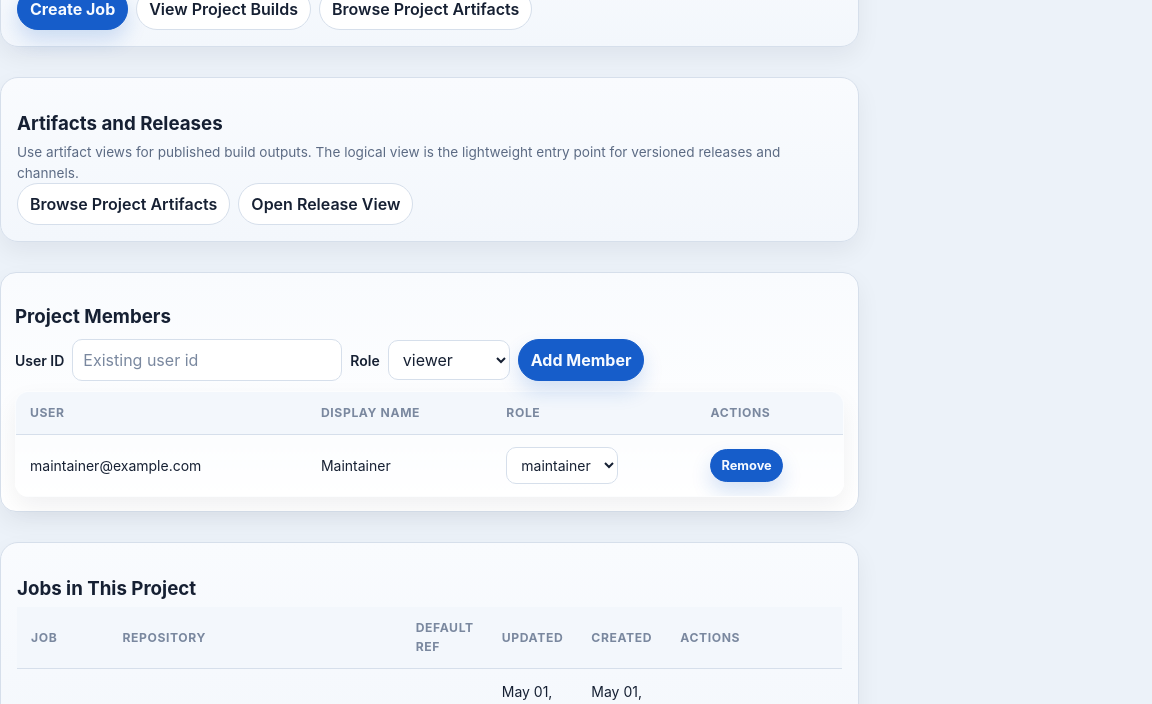
Test: ProjectDetailPage › shows friendly mutation errors for member changes
(page scrolled)
Expected: the text "maintainer@example.com" is shown, [16,435,307,497]
In the field labelled "User ID": (207, 360) [72,339,342,381], type "user-2"
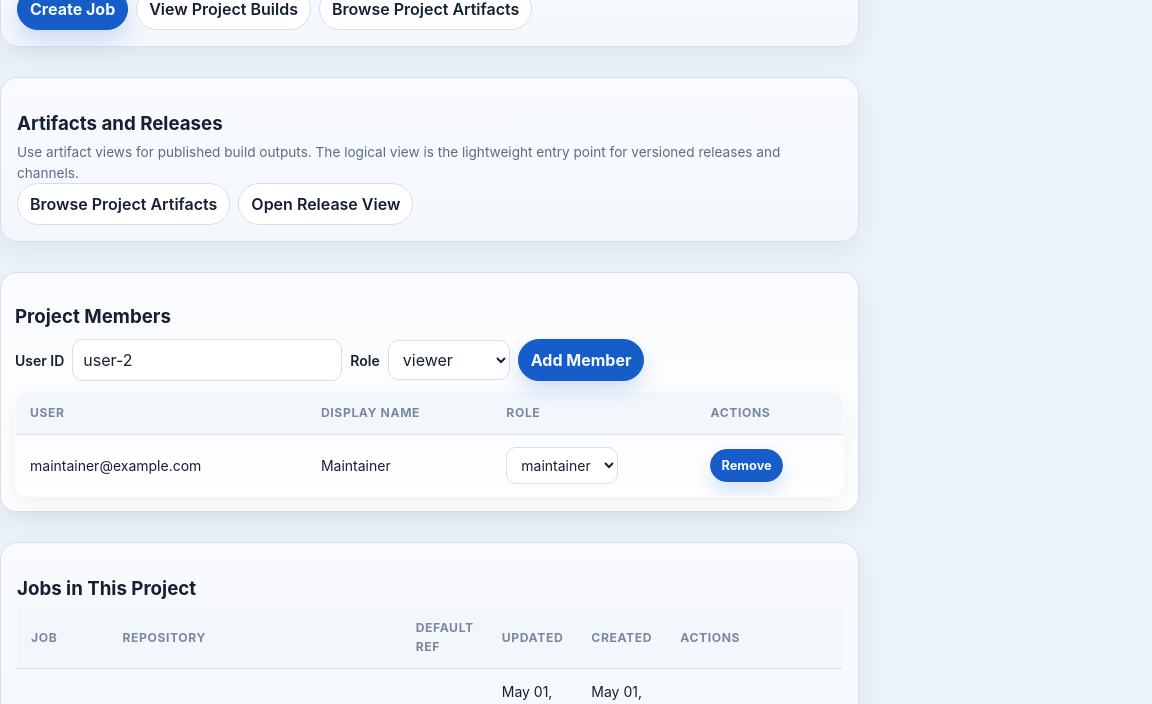
Click the button "Add Member": (581, 360) [518,339,644,381]
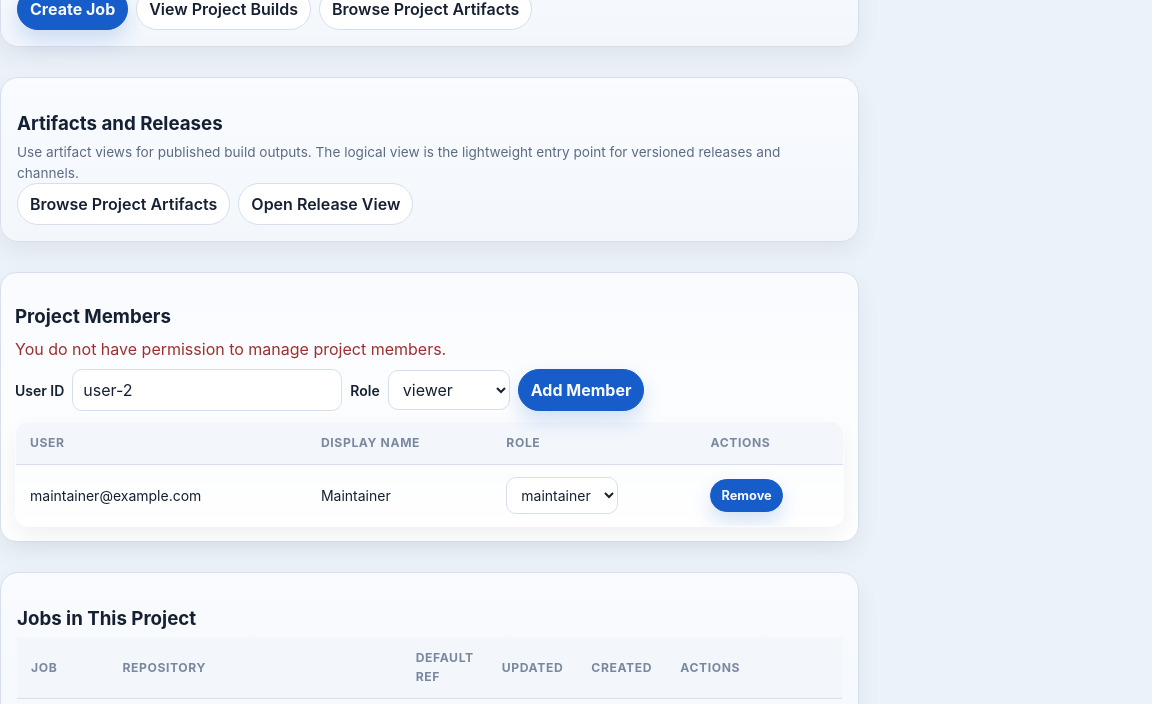
Result: the text "You do not have permission to manage project members." is shown at [15,339,446,359]
Select "owner" in the dropdown named "Role for maintainer@example.com": (562, 496) [506,477,618,514]
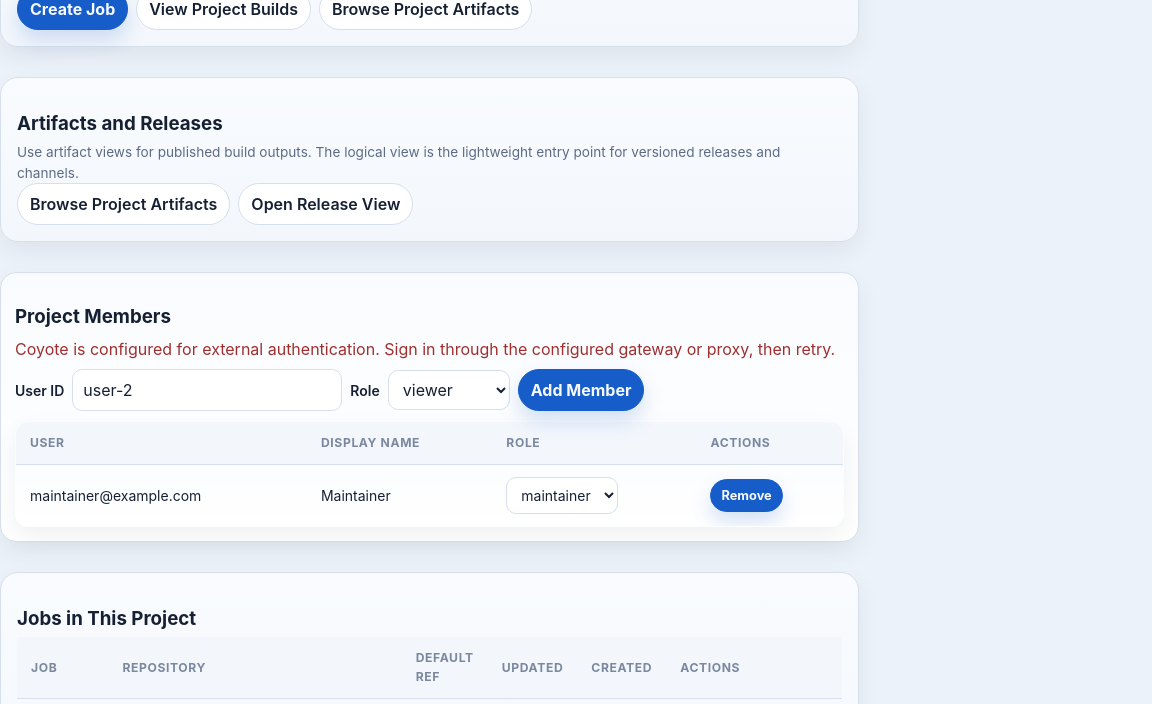
Result: the text "Coyote is configured for external authentication. Sign in through the configured gateway or proxy, then retry." is shown at [15,339,835,359]
Click the button "Remove": (747, 496) [710,479,783,512]
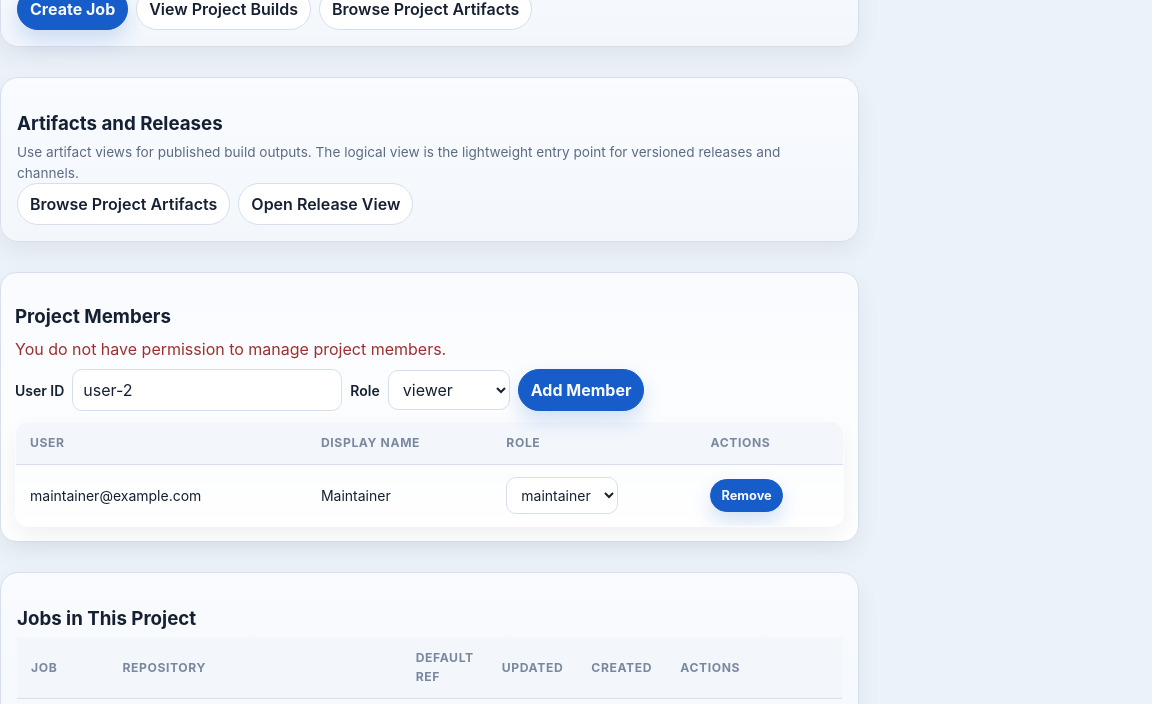
Result: the text "You do not have permission to manage project members." is shown at [15,339,446,359]
